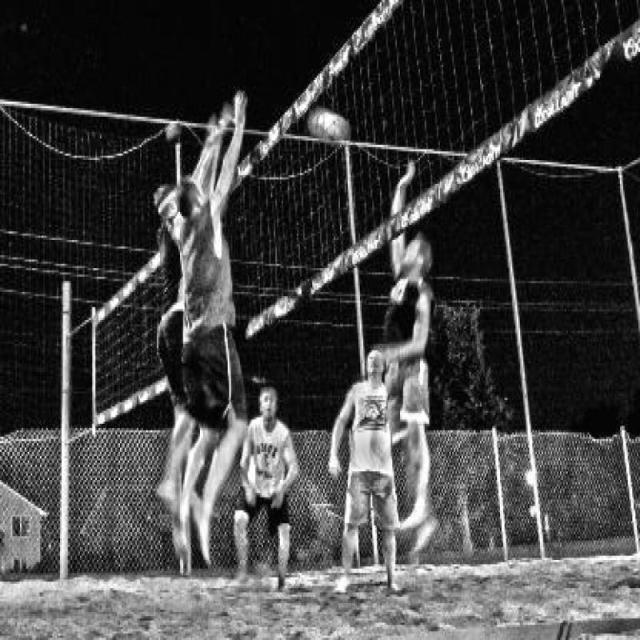volleyball: (308, 106, 348, 140)
